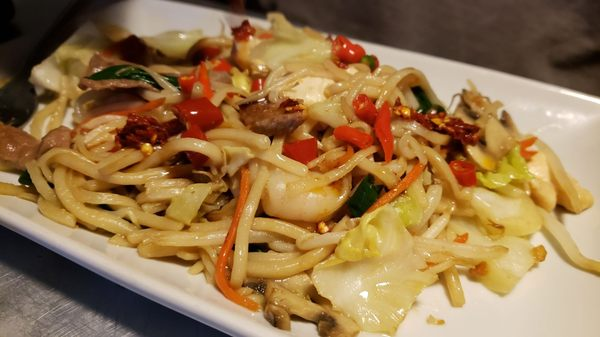pizza: (359, 158, 425, 218), (374, 103, 394, 163)
